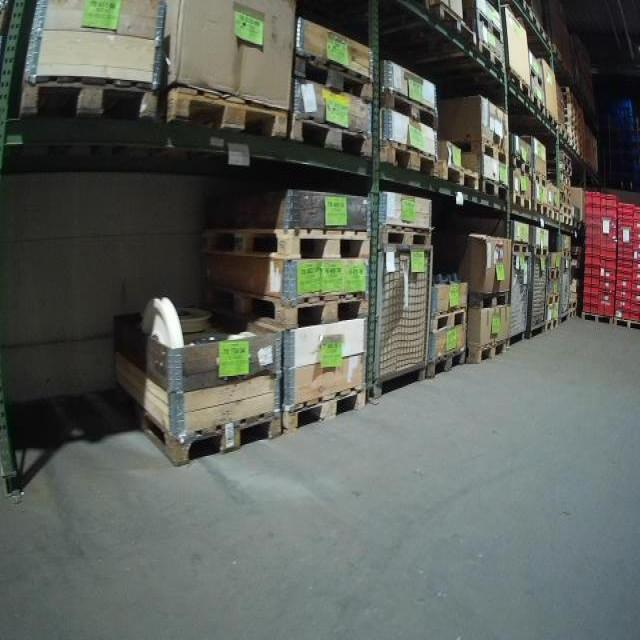pallet: (116, 381, 283, 469), (205, 284, 370, 331), (19, 71, 162, 123), (163, 84, 288, 142), (202, 226, 372, 265), (292, 47, 378, 103), (282, 380, 370, 432), (287, 113, 374, 162), (377, 84, 443, 132), (375, 139, 440, 182), (428, 3, 477, 49), (444, 134, 509, 168), (376, 220, 435, 251), (425, 345, 469, 380), (439, 159, 480, 192), (476, 36, 507, 74), (474, 5, 504, 43), (467, 288, 510, 313), (469, 335, 507, 363), (429, 306, 467, 332), (480, 174, 510, 203), (507, 67, 532, 99), (580, 310, 614, 327), (508, 154, 533, 177), (510, 190, 532, 213), (528, 64, 546, 91), (530, 92, 547, 119), (522, 0, 538, 28), (613, 317, 640, 331), (532, 198, 549, 219), (538, 21, 551, 48), (510, 240, 530, 256), (532, 171, 547, 189), (546, 109, 558, 131), (531, 245, 549, 257), (546, 267, 560, 282), (544, 317, 558, 332), (558, 125, 570, 142), (547, 208, 560, 223), (545, 294, 559, 305), (568, 299, 578, 310), (560, 250, 572, 259), (568, 308, 577, 319)
small_load_carrier: (584, 191, 601, 205), (602, 276, 619, 289), (582, 274, 599, 286), (601, 255, 618, 267), (600, 222, 618, 233), (583, 254, 599, 266), (583, 224, 602, 234), (583, 234, 602, 244), (584, 214, 602, 224), (583, 244, 601, 254), (601, 289, 619, 299), (601, 299, 619, 309), (603, 193, 618, 204), (584, 205, 602, 214), (582, 294, 598, 303), (602, 213, 618, 222), (601, 246, 617, 255), (602, 267, 618, 276), (582, 266, 599, 274), (600, 233, 618, 240), (582, 287, 599, 294), (602, 207, 618, 213)
stillage: (367, 237, 440, 400), (502, 241, 531, 349), (527, 248, 553, 342), (556, 251, 574, 326)
